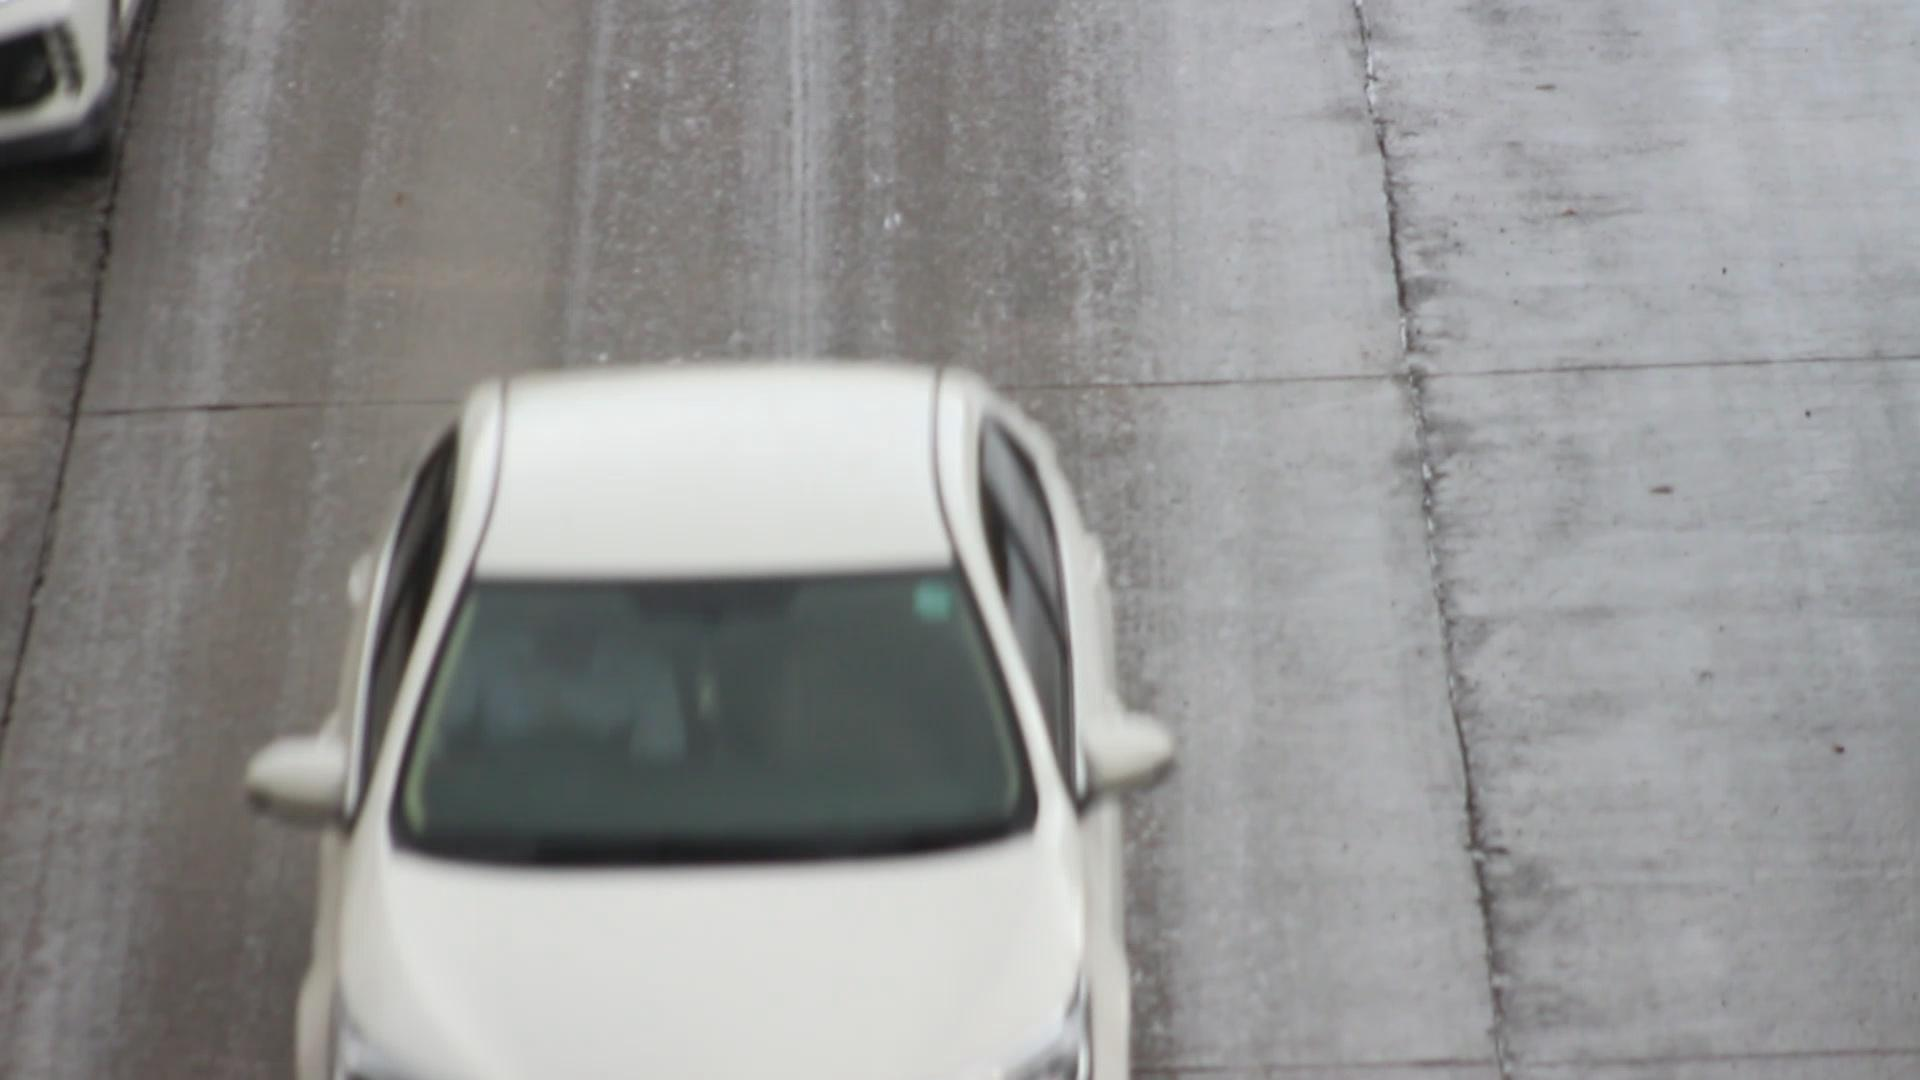windshield: (355, 530, 1040, 853)
